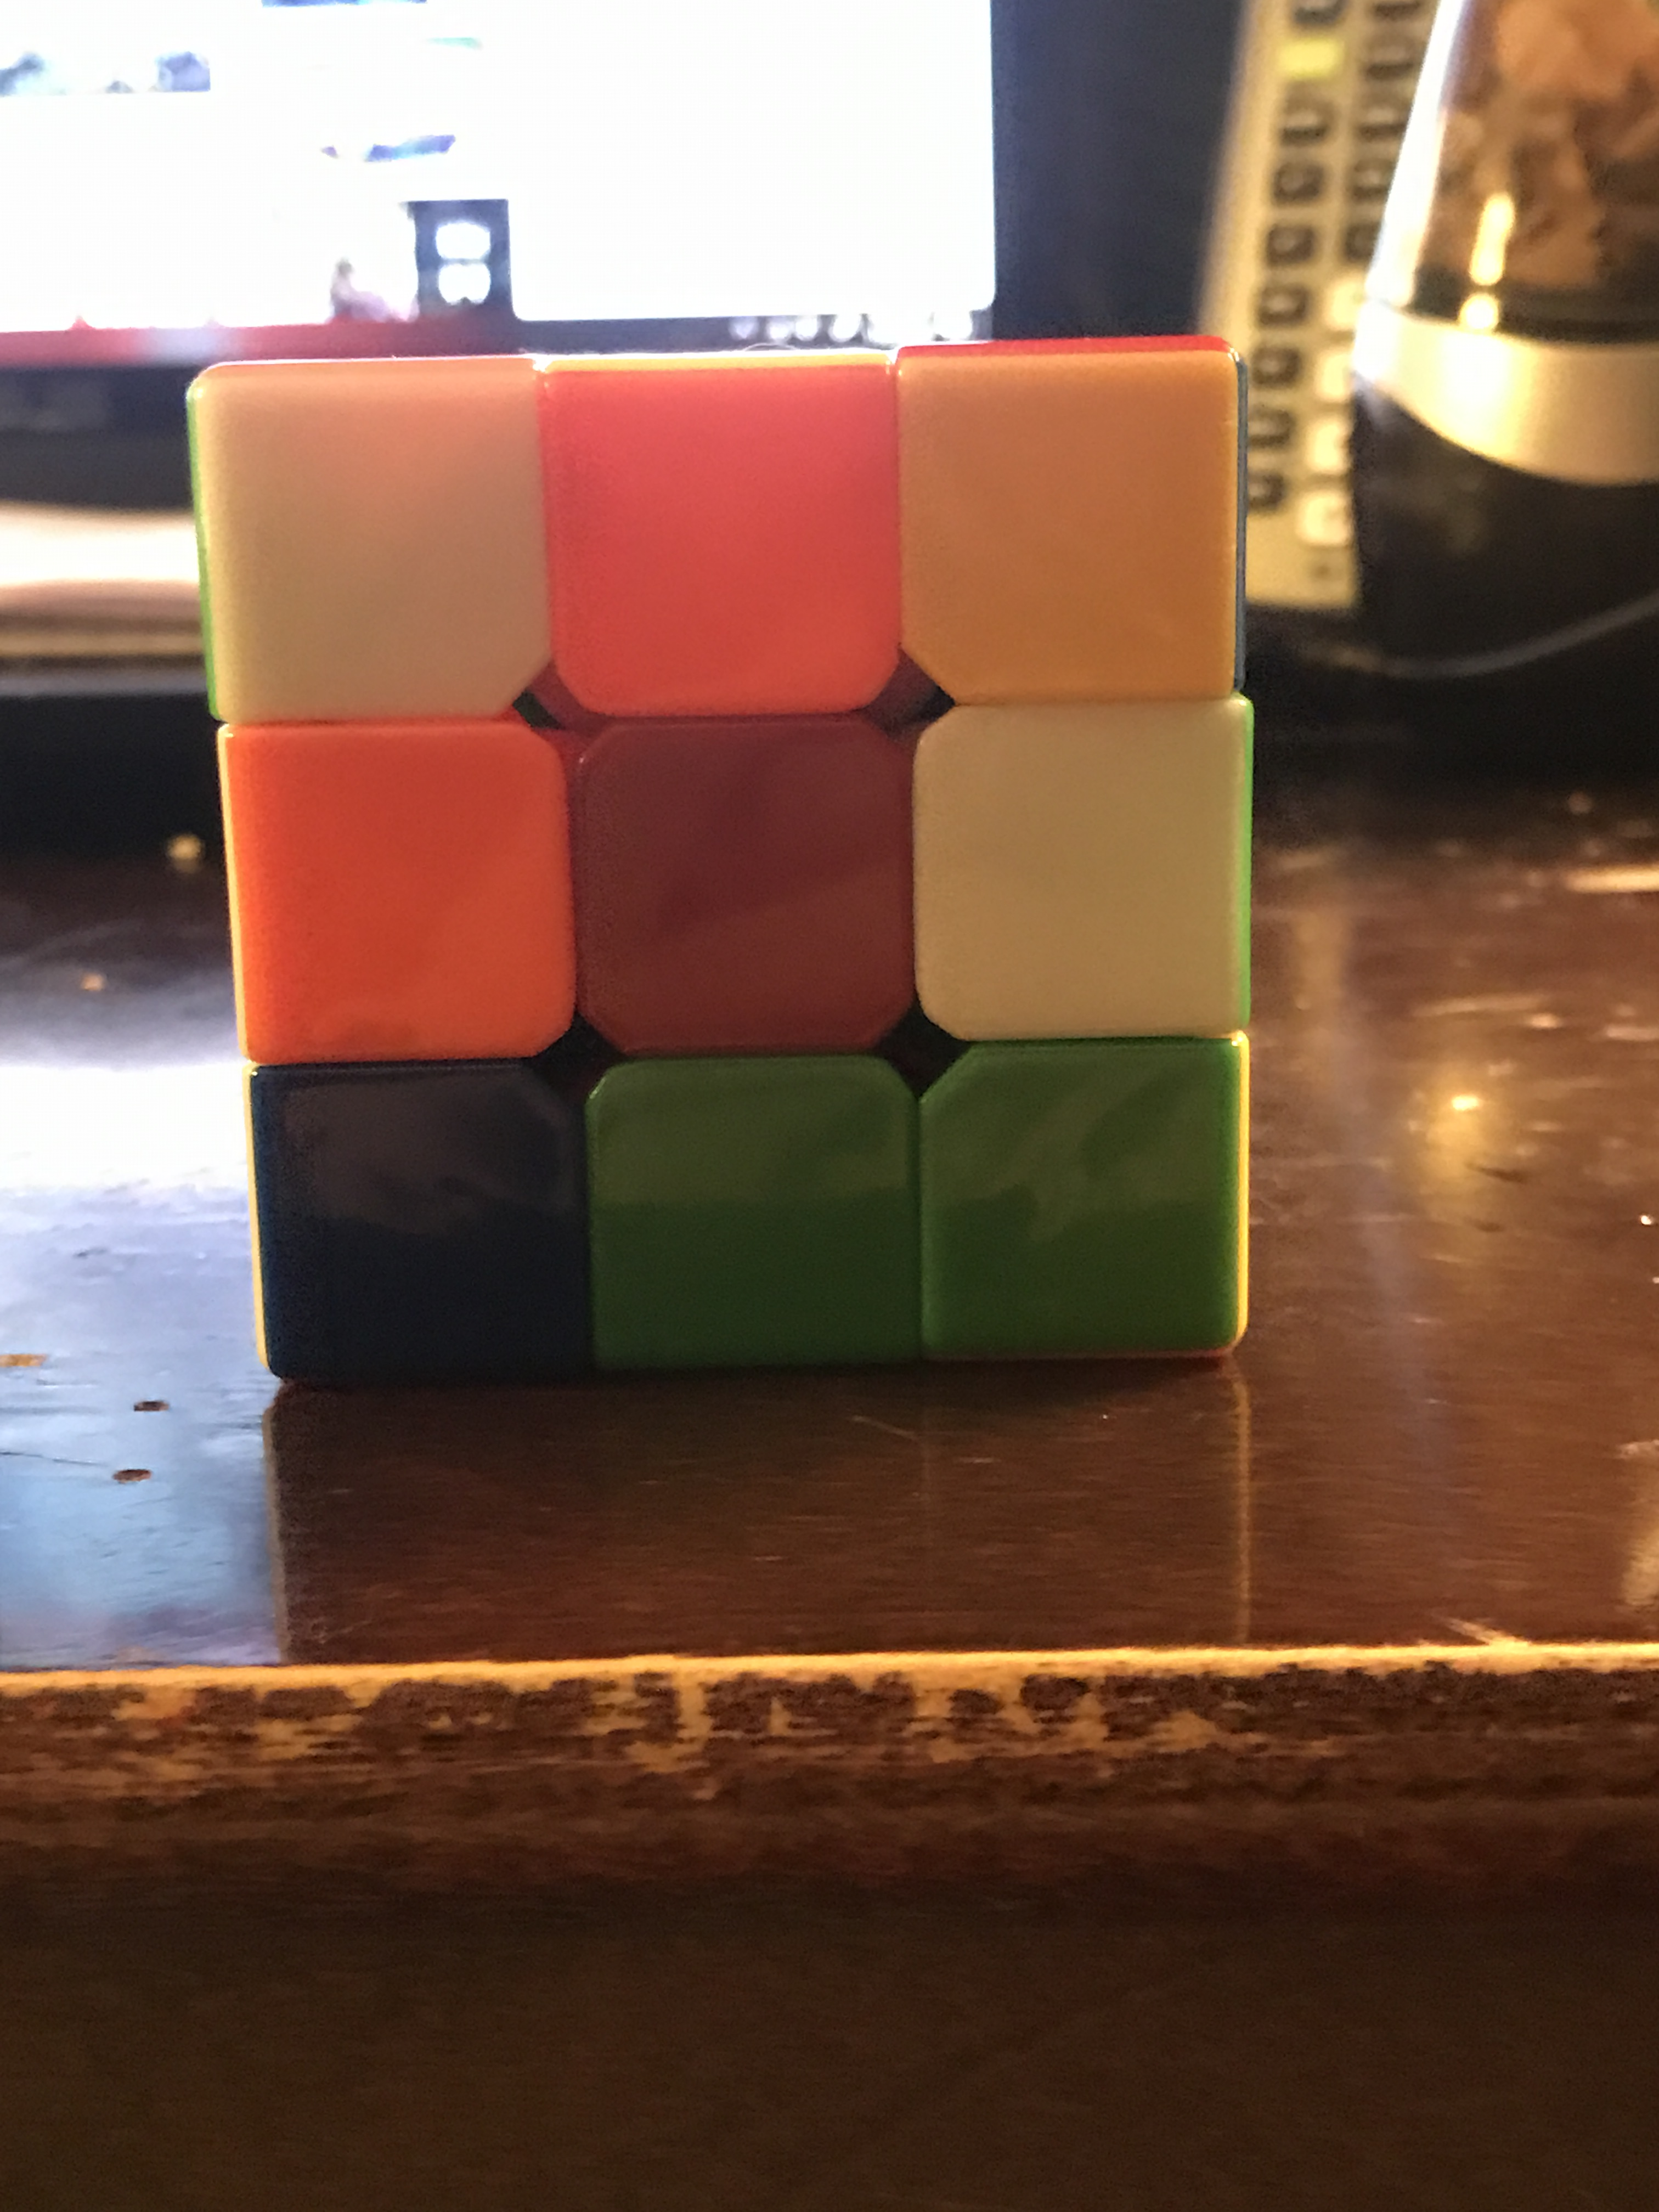rubiks: (179, 366, 1300, 1385)
